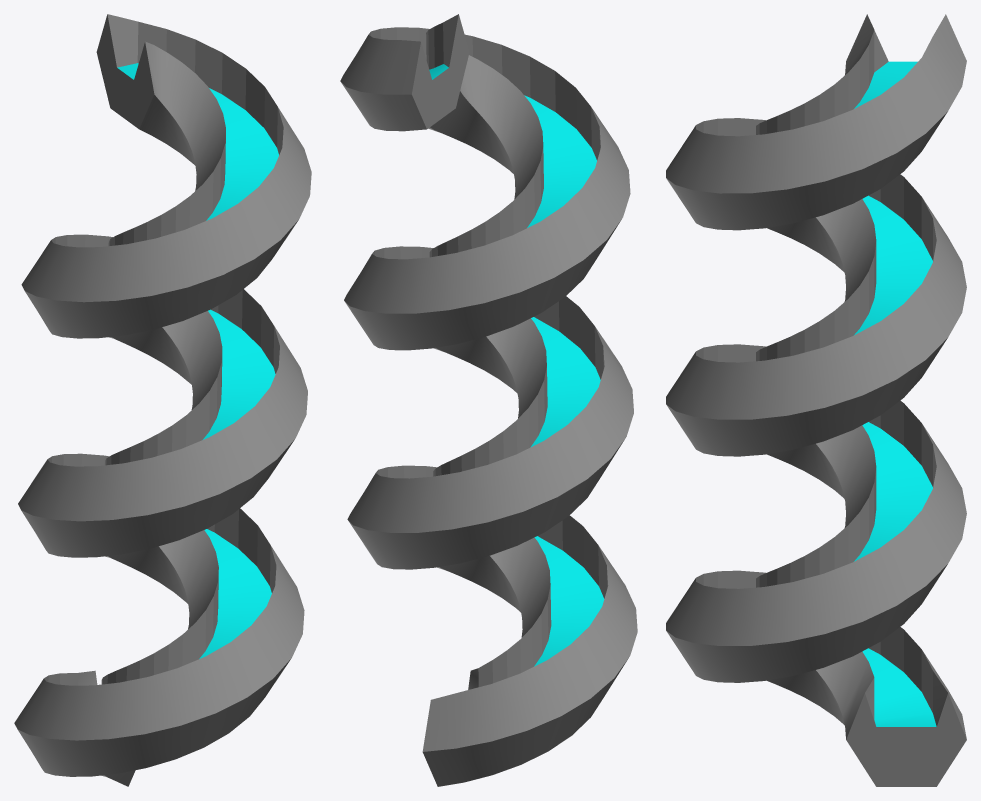
Rendered from SpiralRamp.fbx.
3 renders of one model, left to right at view 1: azimuth 30°, elevation 25°; view 2: azimuth 150°, elevation 25°; view 3: azimuth 270°, elevation 25°, orthographic. The views are drawn at different scales.
Parts seen in each view (by area): view 1: pHelix1; view 2: pHelix1; view 3: pHelix1.
Part boxes in pixels (left/top/right/bottom): pHelix1: left=14, top=14, right=311, bottom=786; pHelix1: left=340, top=14, right=637, bottom=786; pHelix1: left=666, top=14, right=966, bottom=786.
Size of the model in its own units: 38.8 by 107 by 37.38.
